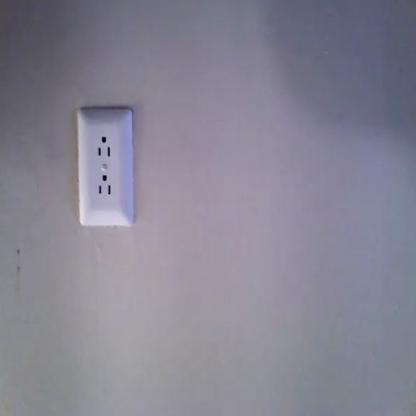OUTLET: (77, 106, 134, 228)
